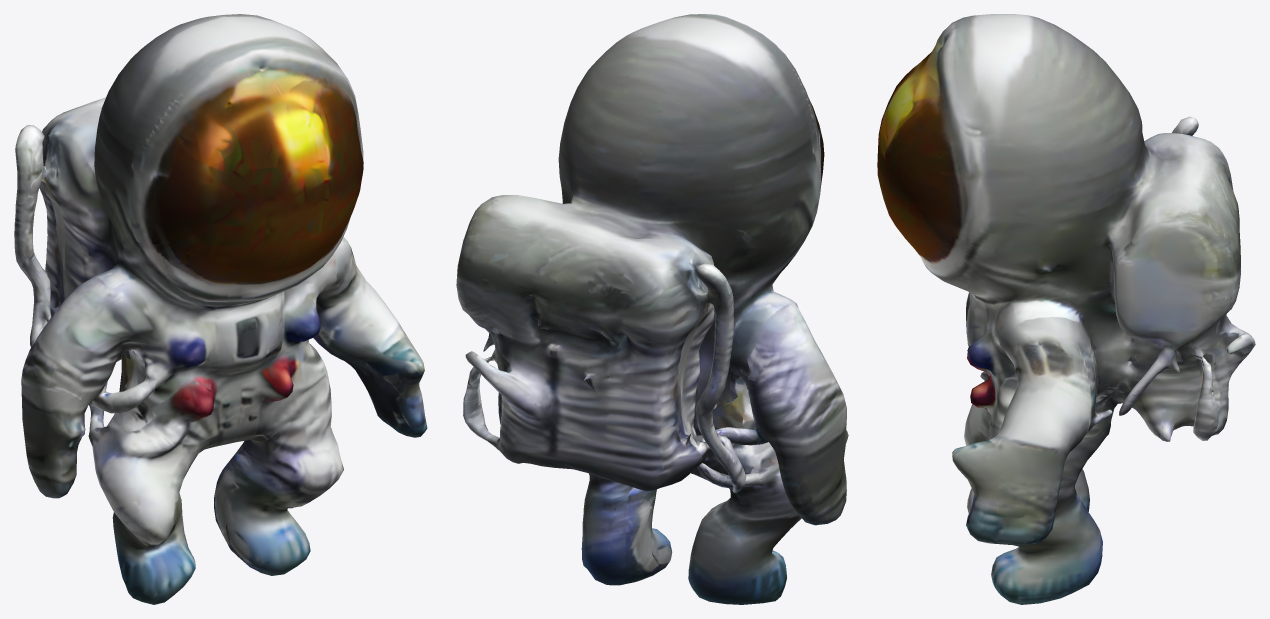
File: walking_astronaut_textured_frame_000000.glb
3 renders of one model, left to right at view 1: azimuth 30°, elevation 25°; view 2: azimuth 150°, elevation 25°; view 3: azimuth 270°, elevation 25°, orthographic. The views are drawn at different scales.
Visible parts, largest first — view 1: geometry_0; view 2: geometry_0; view 3: geometry_0.
Part boxes in pixels (x1,y1,x2,y2): geometry_0: (14,14,427,604); geometry_0: (456,14,848,604); geometry_0: (877,14,1255,604).
Size of the model in its own units: 1.23 by 1.88 by 1.17.
Materials: 1 (1 with a texture image).
